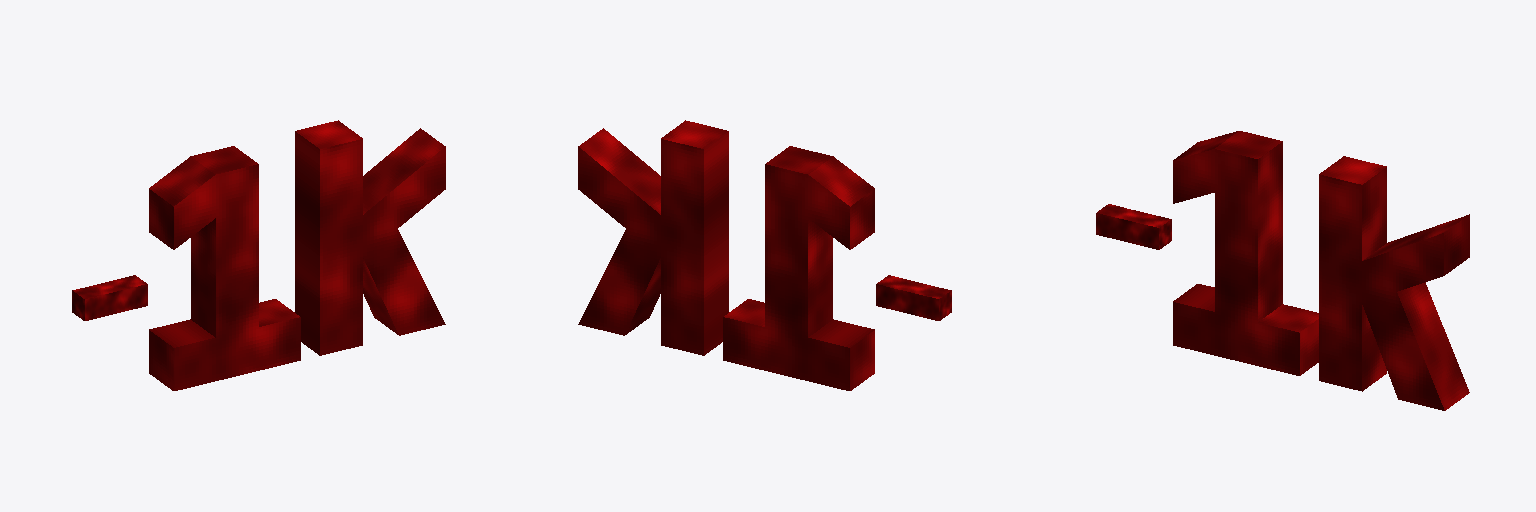
3 views of the same model, side by side, from view 1: azimuth 30°, elevation 25°; view 2: azimuth 150°, elevation 25°; view 3: azimuth 330°, elevation 25° (orthographic).
Parts seen in each view (by area): view 1: PowerUp; view 2: PowerUp; view 3: PowerUp.
Part boxes in pixels (left/top/right/bottom): PowerUp: left=72, top=120, right=445, bottom=390; PowerUp: left=578, top=120, right=951, bottom=390; PowerUp: left=1096, top=131, right=1469, bottom=410.
Bounding box in the file's own units: 1.7 × 0.9461 × 0.2077.
1 materials, 1 textured.